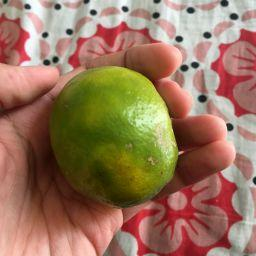Unripe: (48, 69, 178, 209)
